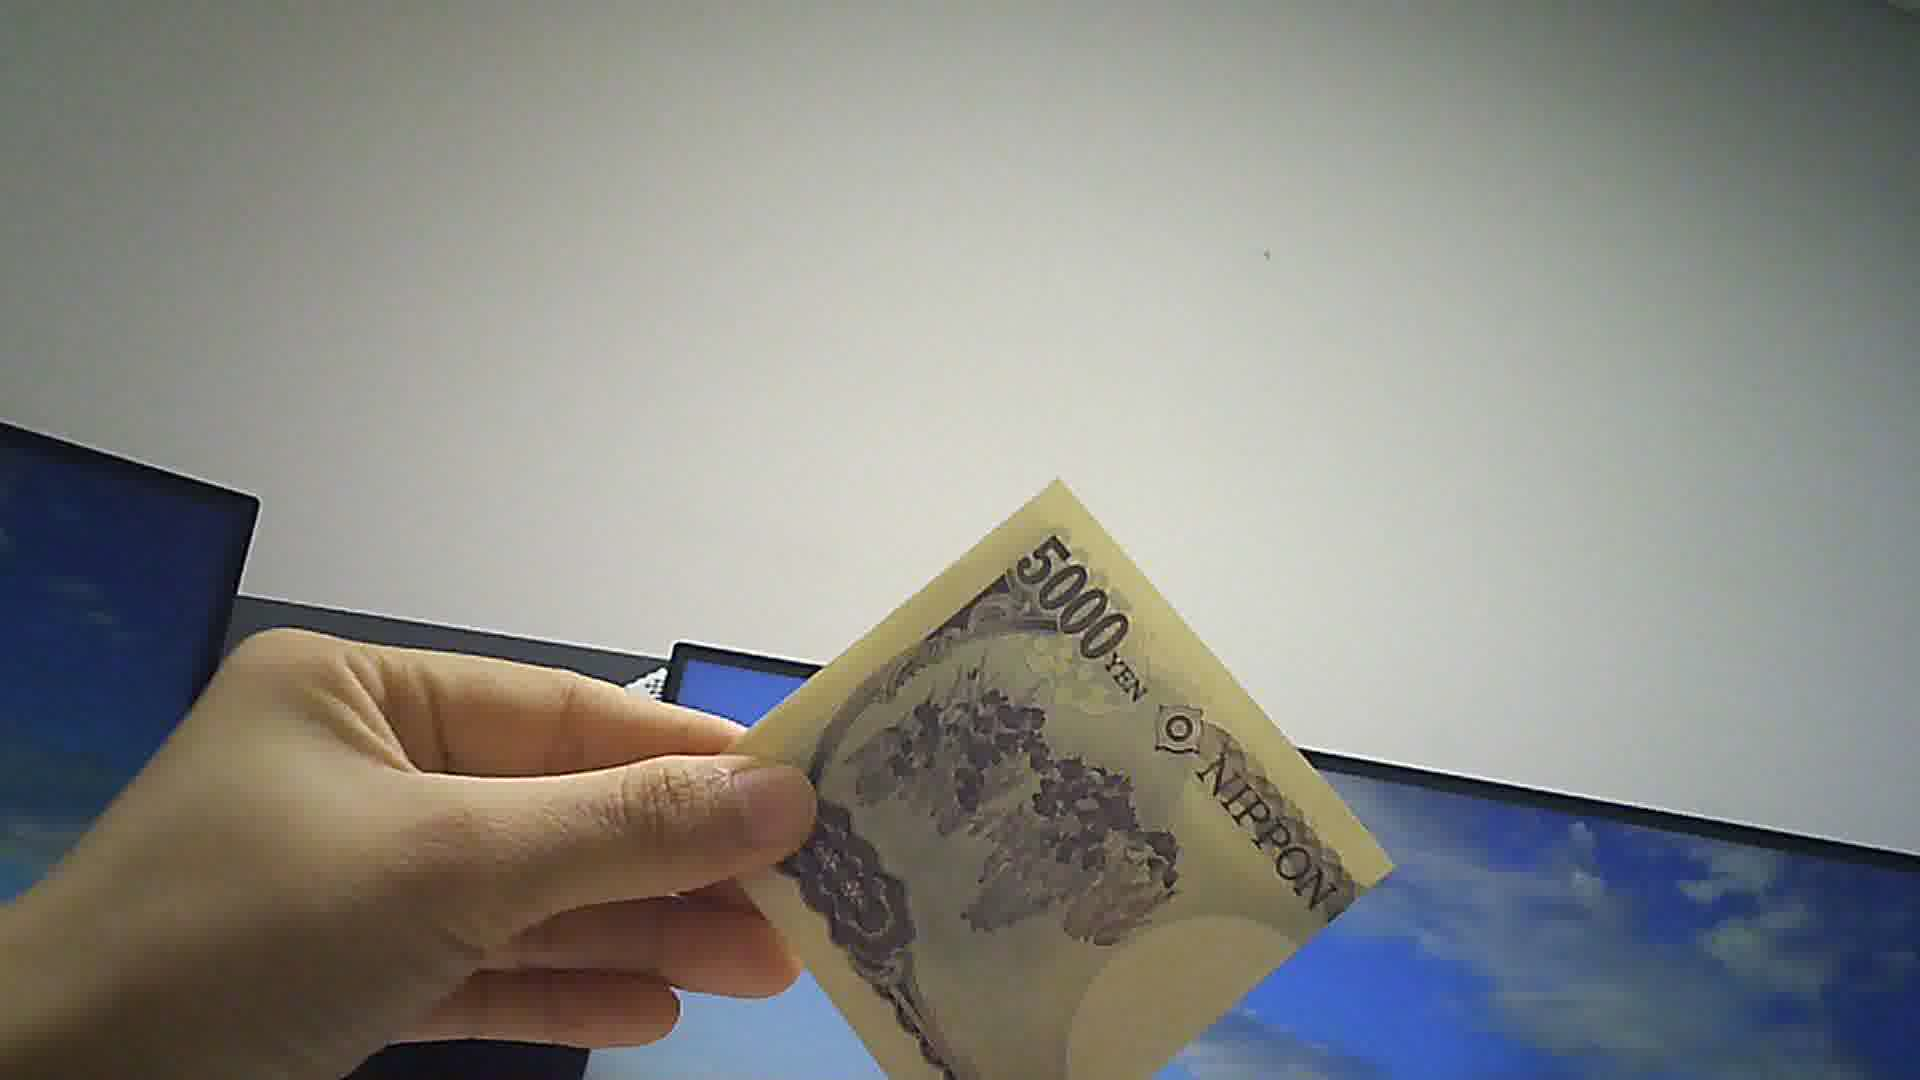5,000 Yen: (702, 473, 1393, 1073)
